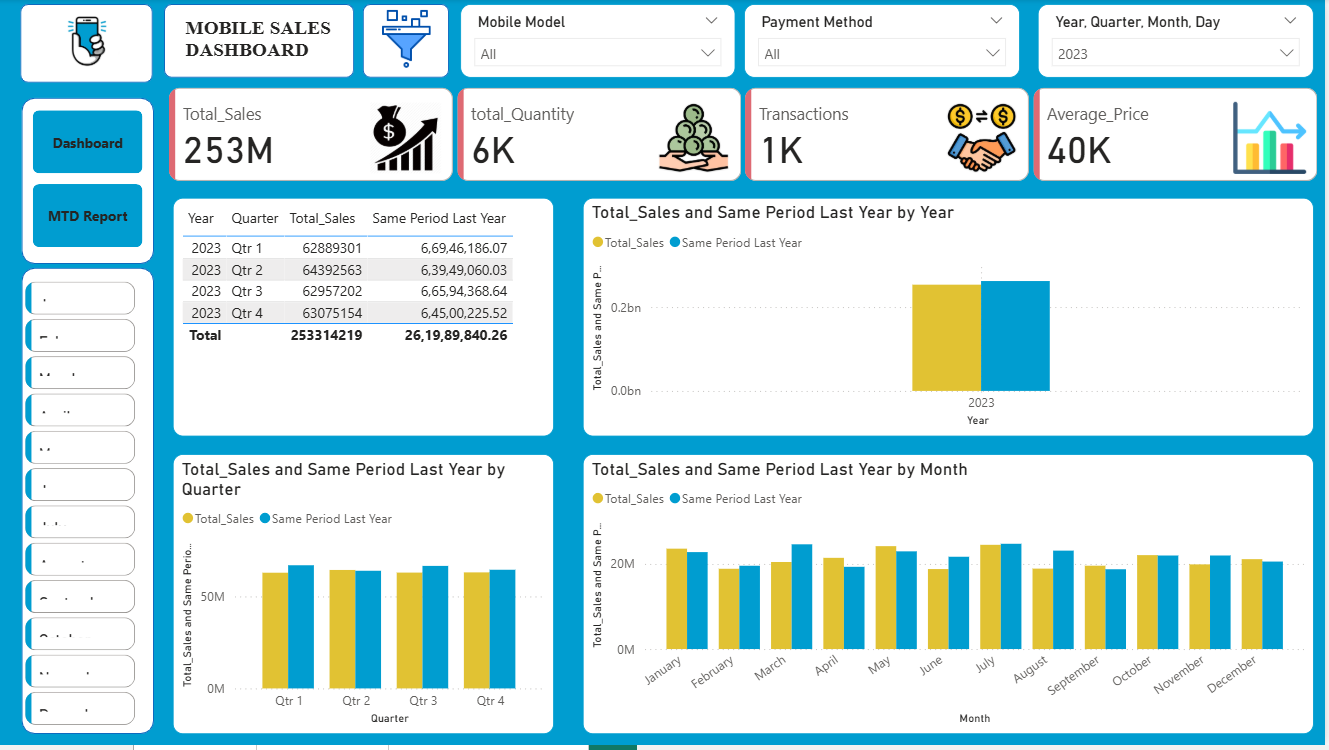

This screenshot's page, from the dashboard's own definition file:
{"tool":"powerbi","page":{"name":"Same Period Last Year","canvas":[1280,720],"ordinal":2},"visuals":[{"type":"shape","box":[20.5,4.8,127.9,76],"z":0},{"type":"image","box":[49.5,4.8,71.2,71.2],"z":1000},{"type":"shape","box":[21.7,95.3,127.9,160.5],"z":2000},{"type":"cardVisual","fields":{"Data":["Sales_Analysis.Total_Sales","Sales_Analysis.total_Quantity","Sales_Analysis.Transactions","Sales_Analysis.Average_Price"]},"box":[159.3,80.8,1120.8,100.1],"z":3000},{"type":"slicer","fields":{"Values":["Sales_Analysis.Mobile Model"]},"box":[445.2,4.8,265.4,71.2],"z":4000},{"type":"slicer","fields":{"Values":["Sales_Analysis.Payment Method"]},"box":[719,4.8,266.6,71.2],"z":5000},{"type":"slicer","fields":{"Values":["Custom_Calendar.Date.Variation.Date Hierarchy.Year","Custom_Calendar.Date.Variation.Date Hierarchy.Quarter","Custom_Calendar.Date.Variation.Date Hierarchy.Month","Custom_Calendar.Date.Variation.Date Hierarchy.Day"]},"box":[1002.6,4.8,266.6,71.2],"z":6000},{"type":"shape","box":[351.1,4.8,83.2,71.2],"z":7000},{"type":"image","box":[359.5,0,67.6,76],"z":8000},{"type":"shape","box":[159.3,4.8,183.4,71.2],"z":9000},{"type":"textbox","box":[174.9,12.1,150.8,56.7],"z":10000},{"type":"shape","box":[21.7,259.4,127.9,450],"z":11000},{"type":"advancedSlicerVisual","fields":{"Values":["Custom_Calendar.Date.Variation.Date Hierarchy.Month"]},"box":[20.6,267.6,116.6,441.9],"z":12000},{"type":"tableEx","fields":{"Values":["Custom_Calendar.Date.Variation.Date Hierarchy.Year","Custom_Calendar.Date.Variation.Date Hierarchy.Quarter","Sales_Analysis.Total_Sales","Sales_Analysis.Same Period Last Year"]},"box":[167.7,191.8,368,230.4],"z":13000},{"type":"clusteredColumnChart","fields":{"Category":["Custom_Calendar.Date.Variation.Date Hierarchy.Year","Custom_Calendar.Date.Variation.Date Hierarchy.Quarter"],"Y":["Sales_Analysis.Total_Sales","Sales_Analysis.Same Period Last Year"]},"box":[563.4,191.8,705.8,230.4],"z":14000},{"type":"clusteredColumnChart","fields":{"Y":["Sales_Analysis.Total_Sales","Sales_Analysis.Same Period Last Year"],"Category":["Custom_Calendar.Date.Variation.Date Hierarchy.Year","Custom_Calendar.Date.Variation.Date Hierarchy.Quarter","Custom_Calendar.Date.Variation.Date Hierarchy.Month","Custom_Calendar.Date.Variation.Date Hierarchy.Day"]},"box":[563.4,439.1,705.8,270.2],"z":15000},{"type":"clusteredColumnChart","fields":{"Category":["Custom_Calendar.Date.Variation.Date Hierarchy.Year","Custom_Calendar.Date.Variation.Date Hierarchy.Quarter"],"Y":["Sales_Analysis.Total_Sales","Sales_Analysis.Same Period Last Year"]},"box":[167.7,439.1,368,270.2],"z":16000},{"type":"pageNavigator","box":[32.6,107.4,106.2,133.9],"z":17000}]}

Visuals, with their boxes in screenshot pixels (x1, y1, x2, y2), scaled from the page's 1280x720 canvas onto the 1329x750 screenshot:
shape: {"left": 21, "top": 5, "right": 154, "bottom": 84}
image: {"left": 51, "top": 5, "right": 125, "bottom": 79}
shape: {"left": 23, "top": 99, "right": 155, "bottom": 266}
cardVisual - Sales_Analysis.Total_Sales x Sales_Analysis.total_Quantity: {"left": 165, "top": 84, "right": 1328, "bottom": 188}
slicer - Sales_Analysis.Mobile Model: {"left": 462, "top": 5, "right": 738, "bottom": 79}
slicer - Sales_Analysis.Payment Method: {"left": 747, "top": 5, "right": 1023, "bottom": 79}
slicer - Custom_Calendar.Date.Variation.Date Hierarchy.Year x Custom_Calendar.Date.Variation.Date Hierarchy.Quarter: {"left": 1041, "top": 5, "right": 1318, "bottom": 79}
shape: {"left": 365, "top": 5, "right": 451, "bottom": 79}
image: {"left": 373, "top": 0, "right": 443, "bottom": 79}
shape: {"left": 165, "top": 5, "right": 356, "bottom": 79}
textbox: {"left": 182, "top": 13, "right": 338, "bottom": 72}
shape: {"left": 23, "top": 270, "right": 155, "bottom": 739}
advancedSlicerVisual - Custom_Calendar.Date.Variation.Date Hierarchy.Month: {"left": 21, "top": 279, "right": 142, "bottom": 739}
tableEx - Custom_Calendar.Date.Variation.Date Hierarchy.Year x Custom_Calendar.Date.Variation.Date Hierarchy.Quarter: {"left": 174, "top": 200, "right": 556, "bottom": 440}
clusteredColumnChart - Custom_Calendar.Date.Variation.Date Hierarchy.Year x Custom_Calendar.Date.Variation.Date Hierarchy.Quarter: {"left": 585, "top": 200, "right": 1318, "bottom": 440}
clusteredColumnChart - Sales_Analysis.Total_Sales x Sales_Analysis.Same Period Last Year: {"left": 585, "top": 457, "right": 1318, "bottom": 739}
clusteredColumnChart - Custom_Calendar.Date.Variation.Date Hierarchy.Year x Custom_Calendar.Date.Variation.Date Hierarchy.Quarter: {"left": 174, "top": 457, "right": 556, "bottom": 739}
pageNavigator: {"left": 34, "top": 112, "right": 144, "bottom": 251}
